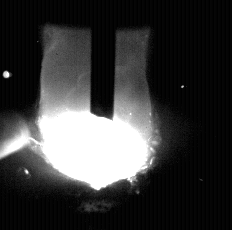arame: (91, 0, 116, 121)
poca: (36, 0, 154, 230)
